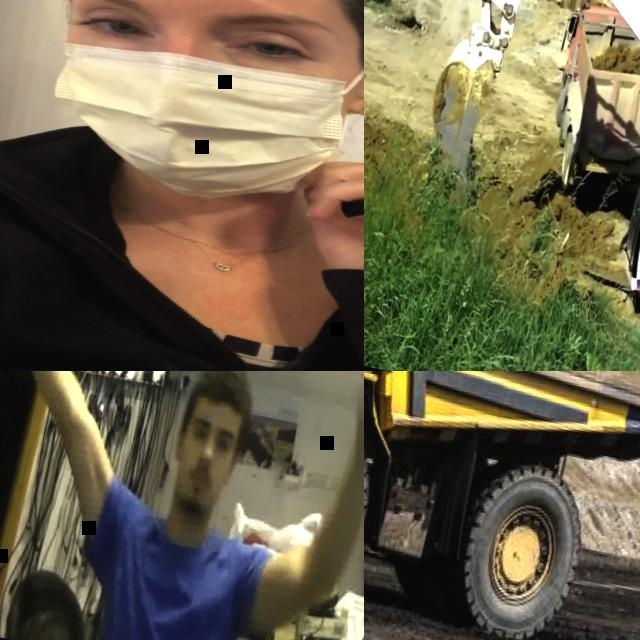Mask: (22, 0, 364, 209)
NO-Hardhat: (195, 371, 260, 421)
NO-Mask: (175, 462, 224, 518)
NO-Safety Vest: (0, 135, 364, 371), (91, 524, 255, 640)
Person: (0, 0, 364, 371), (0, 371, 364, 640)
machinery: (390, 0, 640, 371), (364, 371, 640, 640), (533, 0, 640, 207)
